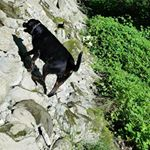puppy: (21, 16, 87, 100)
